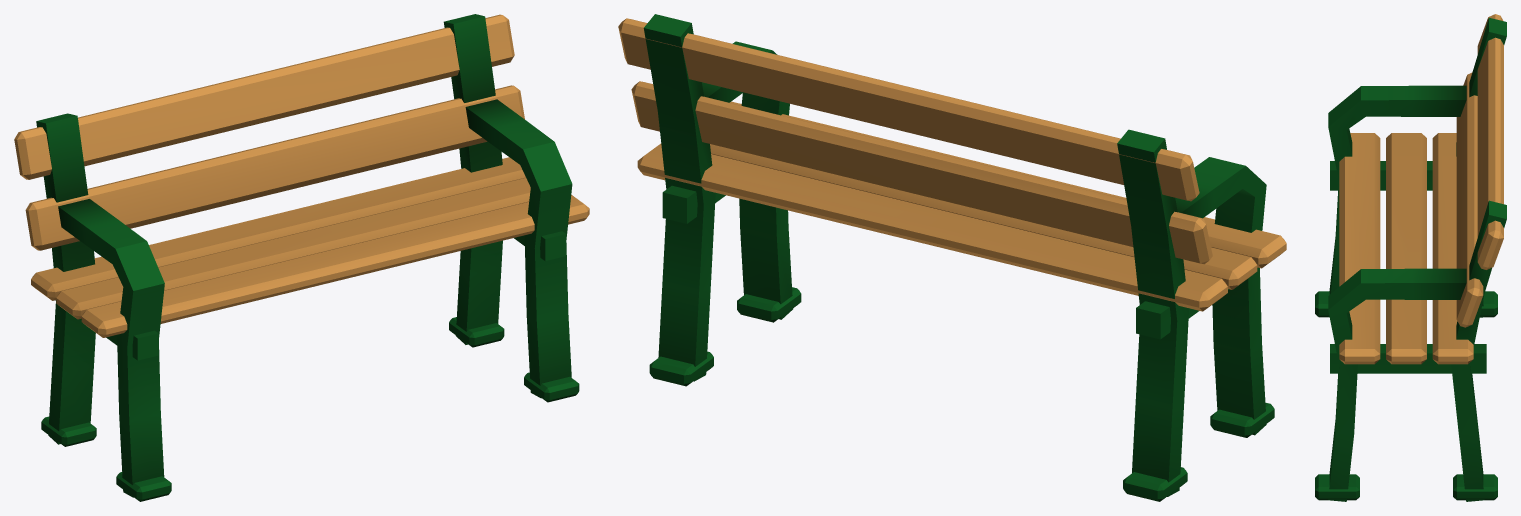
The model's file is Bench.fbx.
3 views of the same model, side by side, from view 1: azimuth 30°, elevation 25°; view 2: azimuth 150°, elevation 25°; view 3: azimuth 270°, elevation 25° (orthographic). The views are drawn at different scales.
Visible parts, largest first — view 1: Bench; view 2: Bench; view 3: Bench.
Boxes of the visible parts, x1=… form: Bench: x1=14, y1=14, x2=589, y2=501; Bench: x1=618, y1=14, x2=1286, y2=501; Bench: x1=1315, y1=14, x2=1506, y2=501.
Size of the model in its own units: 1.4 by 0.8491 by 0.5141.
